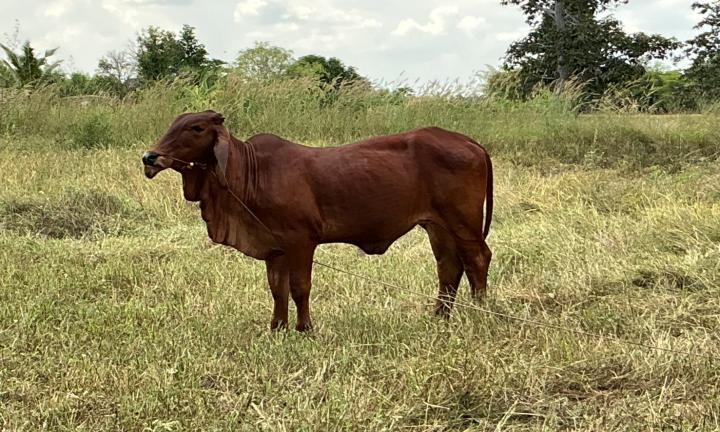Brahman: (142, 110, 492, 331)
